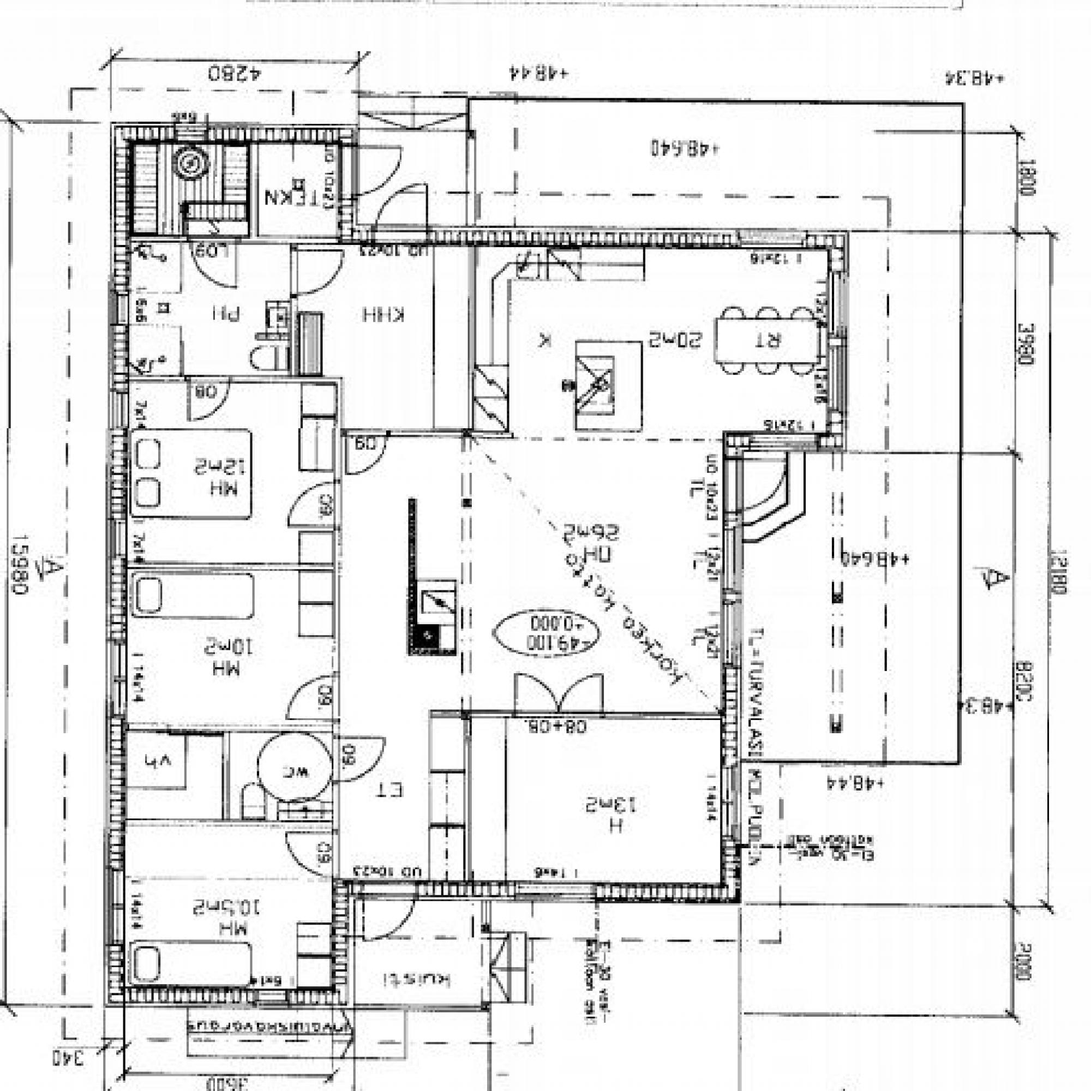wall: (107, 122, 129, 1008), (340, 226, 847, 245), (723, 432, 742, 900), (333, 883, 742, 900), (107, 122, 357, 144), (333, 374, 342, 900), (109, 990, 351, 1008), (829, 226, 848, 449), (428, 712, 742, 721), (333, 883, 351, 1008), (107, 236, 357, 245), (723, 432, 847, 449), (108, 374, 342, 383), (340, 122, 357, 244), (108, 723, 333, 732), (108, 819, 333, 828), (464, 226, 473, 437), (462, 712, 471, 883), (407, 498, 416, 658), (333, 428, 473, 437), (290, 236, 299, 374), (251, 122, 260, 244), (108, 564, 333, 568), (224, 723, 231, 828), (407, 649, 456, 658), (464, 428, 512, 437), (256, 335, 299, 341)
